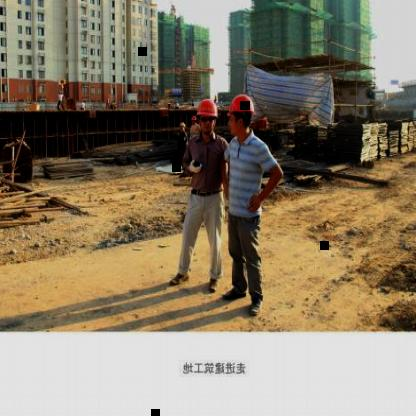helmet: (224, 89, 257, 119), (196, 97, 221, 122)
